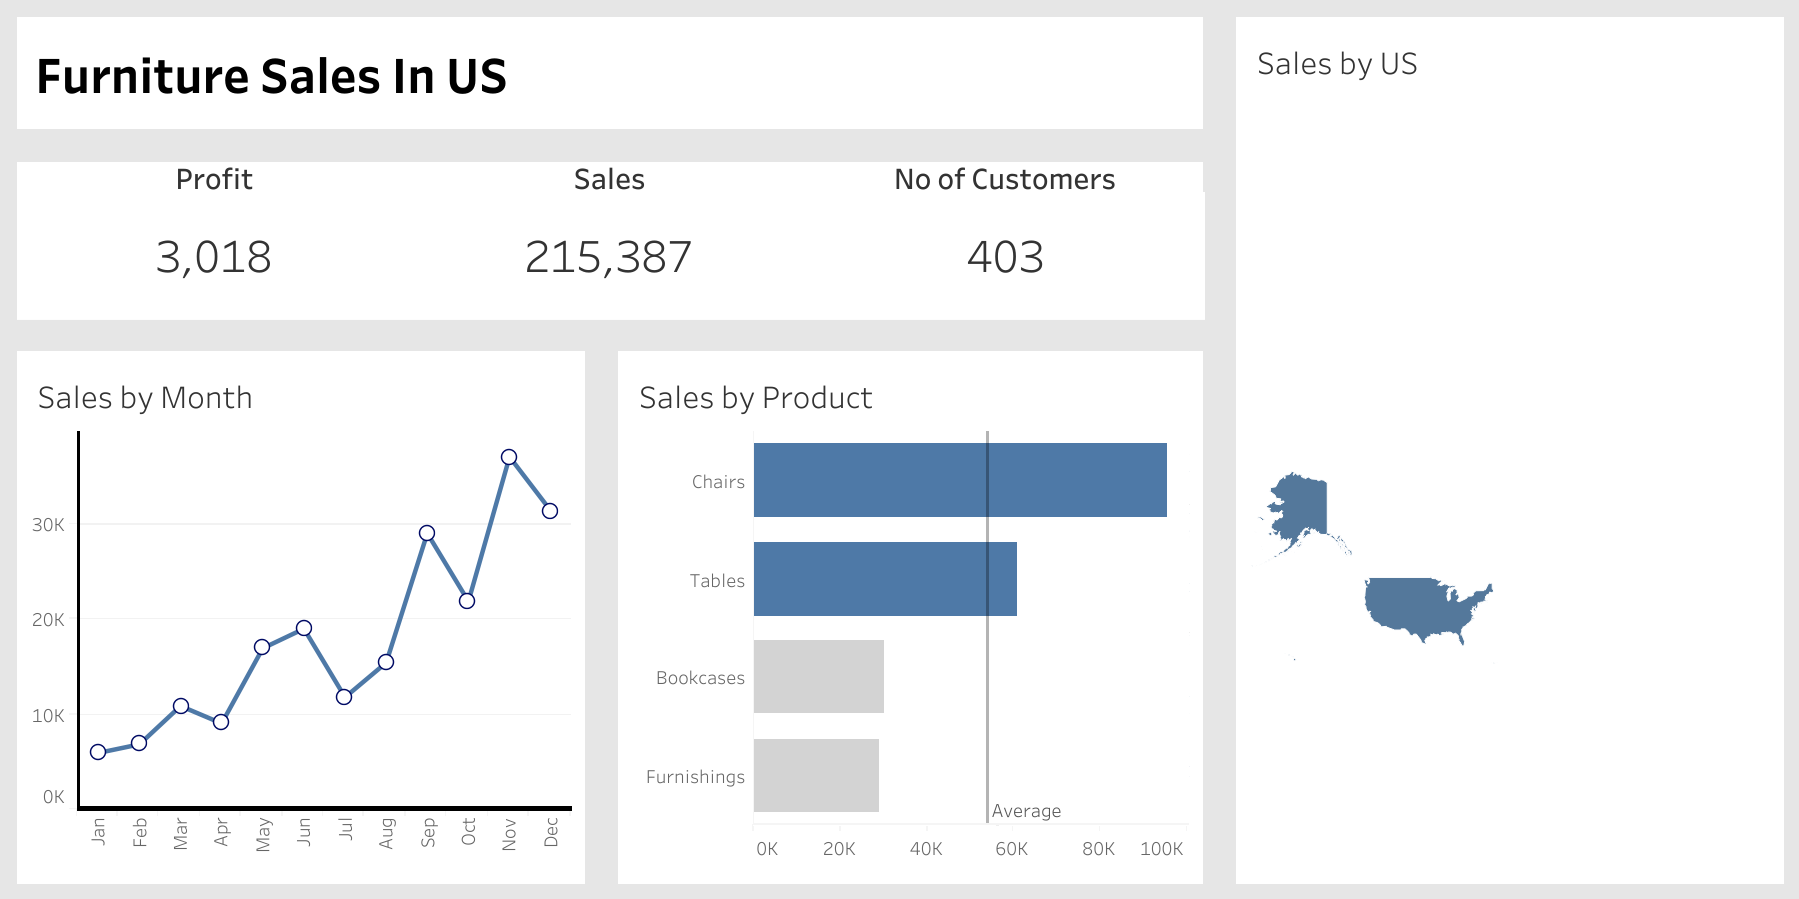

What the dashboard file says about the page in this screenshot:
{"tool":"tableau","page":{"name":"Dashboard 1","canvas":[1200,600],"ordinal":0},"visuals":[{"type":"text","box":[0,0,813,97]},{"type":"worksheet","title":"Sales by US","mark":"Automatic","box":[813,0,387,600]},{"type":"legend","title":"Sales by US","param":"[federated.0a3ui2r00m22i71h5we791o19qau].[sum:Sales:qk]","box":[1032,8,160,81]},{"type":"legend","title":"Sales by Product","param":"[federated.0a3ui2r00m22i71h5we791o19qau].[usr:Calculation_863002340147208192:nk:","box":[1032,89,160,84]},{"type":"worksheet","title":"KPI's","mark":"Automatic","box":[0,97,813,126]},{"type":"worksheet","title":"Sales by Month","mark":"Automatic","rows":["Sales","Sales"],"cols":["Order Date"],"box":[0,223,400.9,377]},{"type":"worksheet","title":"Sales by Product","mark":"Automatic","rows":["Sub-Category"],"cols":["Sales"],"box":[400.9,223,412,377]}]}

Visuals, with their boxes in screenshot pixels (x1, y1, x2, y2), scaled from the page's 1200x600 canvas onto the 1799x899 screenshot:
text: rect(0, 0, 1219, 145)
"Sales by US" worksheet: rect(1219, 0, 1798, 898)
"Sales by US" legend: rect(1547, 12, 1787, 133)
"Sales by Product" legend: rect(1547, 133, 1787, 259)
"KPI's" worksheet: rect(0, 145, 1219, 334)
"Sales by Month" worksheet: rect(0, 334, 601, 898)
"Sales by Product" worksheet: rect(601, 334, 1219, 898)
